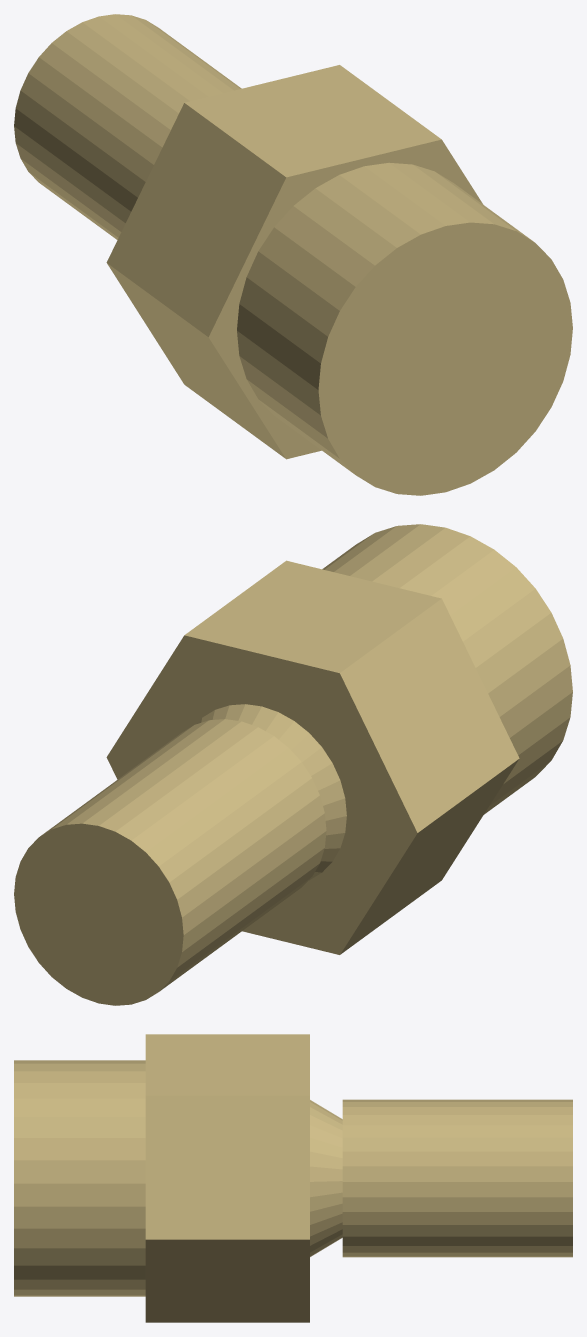
3 renders of one model, top to bottom at view 1: azimuth 30°, elevation 25°; view 2: azimuth 150°, elevation 25°; view 3: azimuth 270°, elevation 25°, orthographic. The views are drawn at different scales.
Parts seen in each view (by area): view 1: world; view 2: world; view 3: world.
Part boxes in pixels (left/top/right/bottom): world: left=14, top=14, right=572, bottom=495; world: left=14, top=524, right=572, bottom=1005; world: left=14, top=1034, right=572, bottom=1322.
Bounding box in the file's own units: 0.352 × 0.3048 × 0.68.
